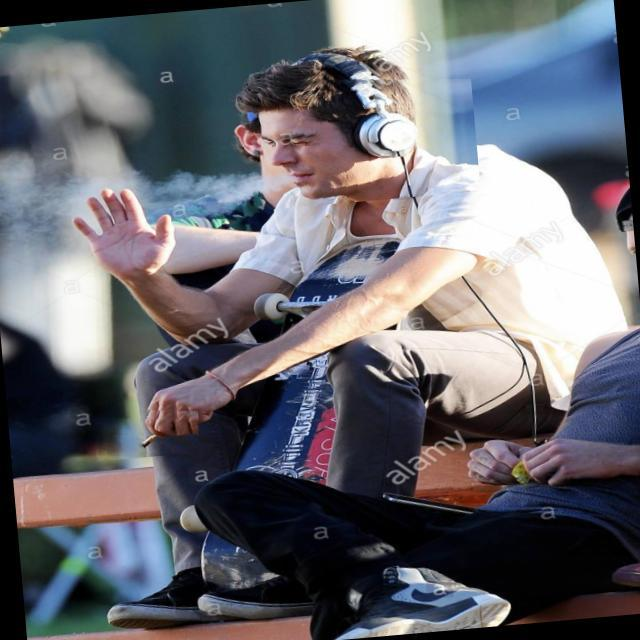cigarette: (92, 399, 201, 461)
